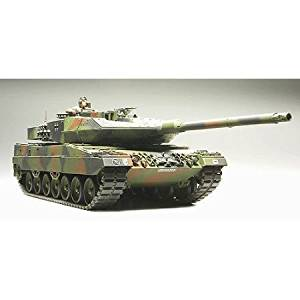Battle Tank: (9, 108, 234, 211)
